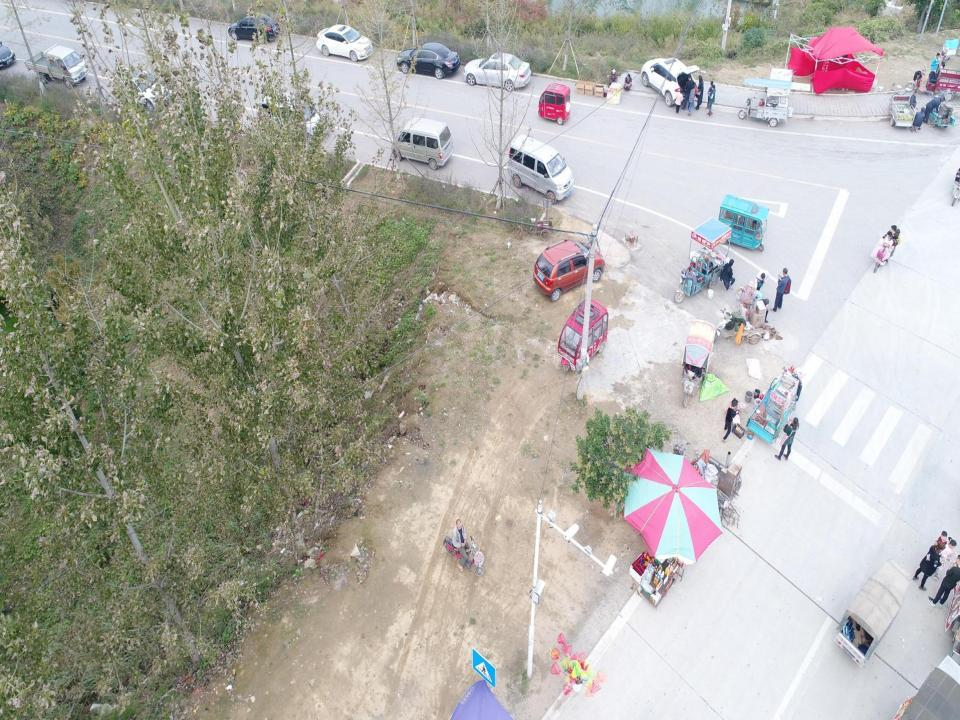car: (255, 89, 330, 153), (533, 239, 606, 302), (110, 62, 175, 114), (640, 54, 700, 108), (462, 52, 531, 92), (396, 42, 460, 80), (316, 24, 372, 62), (227, 14, 281, 43)
truck: (24, 43, 88, 90)
van: (508, 134, 575, 204), (390, 111, 455, 171)
